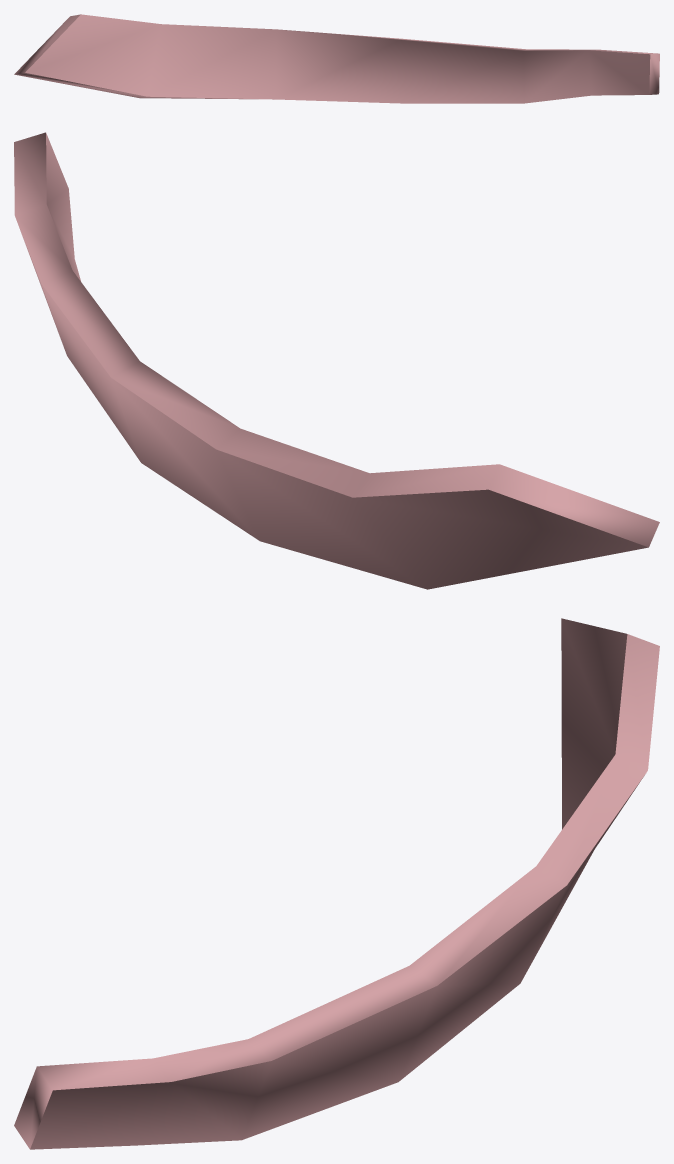
3 views of the same model, one above another, from view 1: azimuth 30°, elevation 25°; view 2: azimuth 150°, elevation 25°; view 3: azimuth 270°, elevation 25° (orthographic). The views are drawn at different scales.
Parts seen in each view (by area): view 1: ZA_6f5f25a25014df8f; view 2: ZA_6f5f25a25014df8f; view 3: ZA_6f5f25a25014df8f.
Part boxes in pixels (x1,y1,x2,y2): ZA_6f5f25a25014df8f: [14, 14, 659, 103]; ZA_6f5f25a25014df8f: [14, 132, 659, 589]; ZA_6f5f25a25014df8f: [14, 618, 659, 1149].
Size of the model in its own units: 0.0903 by 0.0185 by 0.053.
